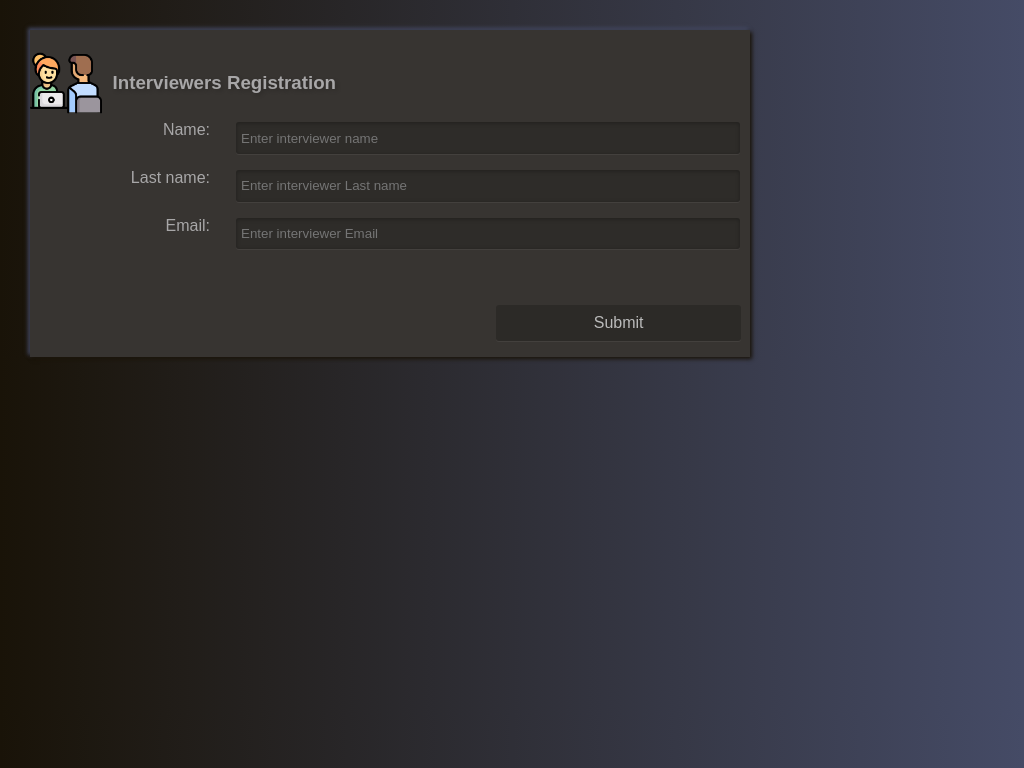
Test: MyForm Component › should display error message on failed form submission because invalid name
Type "J" into the field labelled "Name:" at (488, 138), box [236,122,740,154]
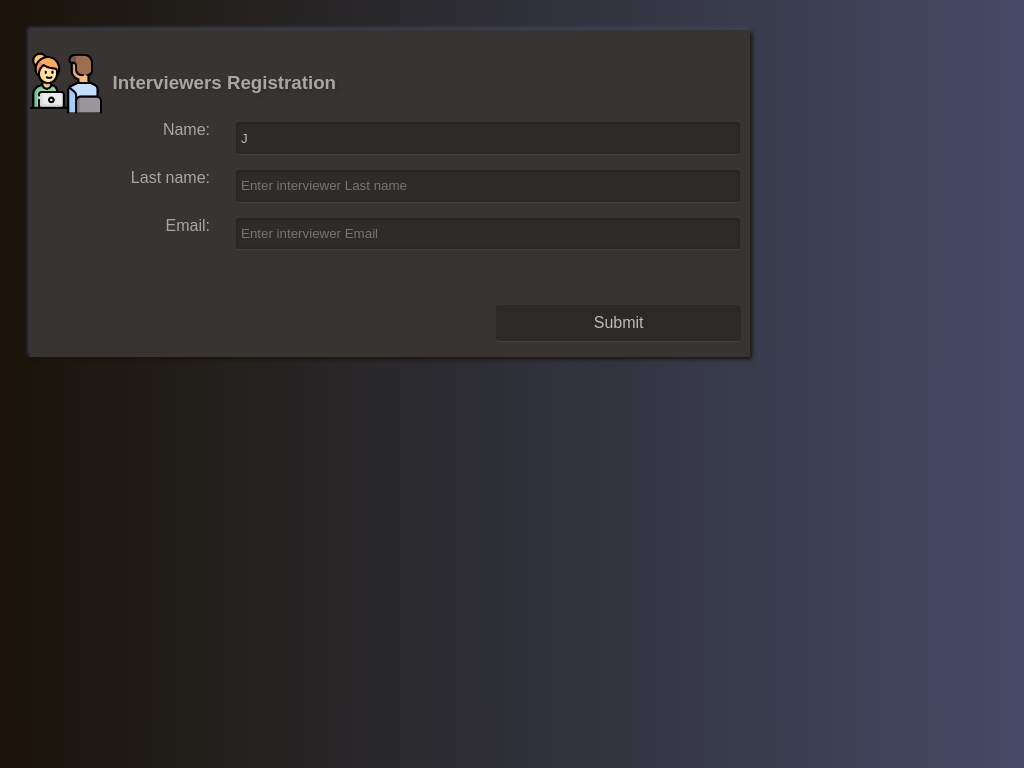
Type "Doe" into the field labelled "Last name:" at (488, 186), box [236,170,740,202]
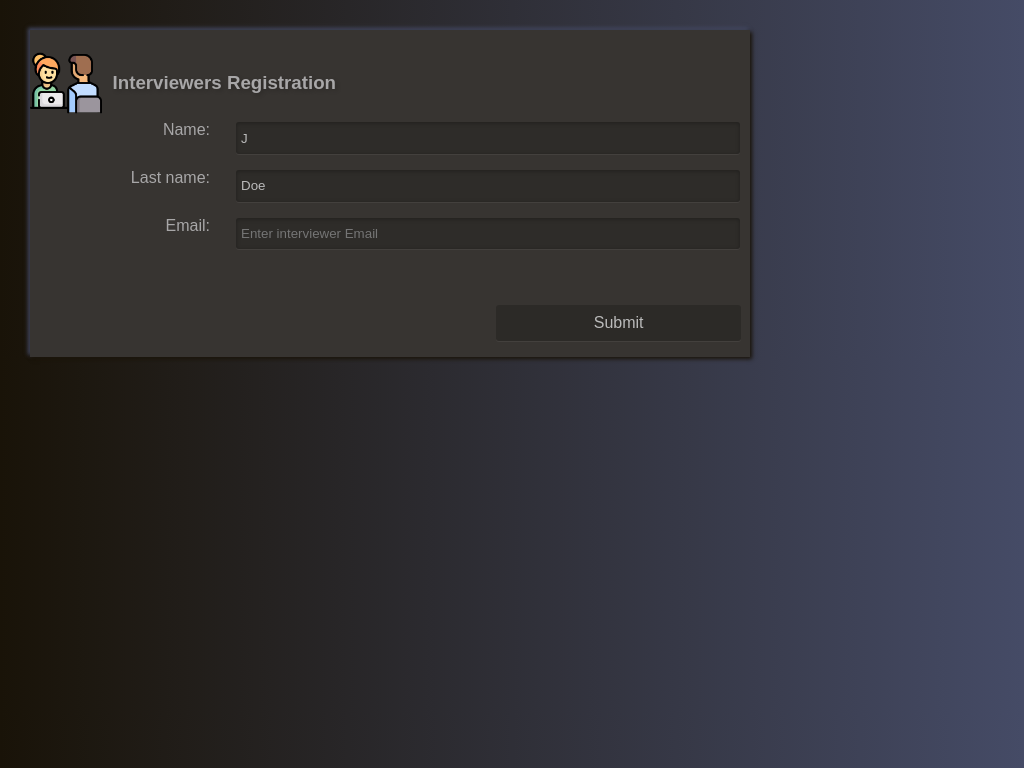
Type "john.doe@example.com" into the field labelled "Email:" at (488, 233), box [236,218,740,249]
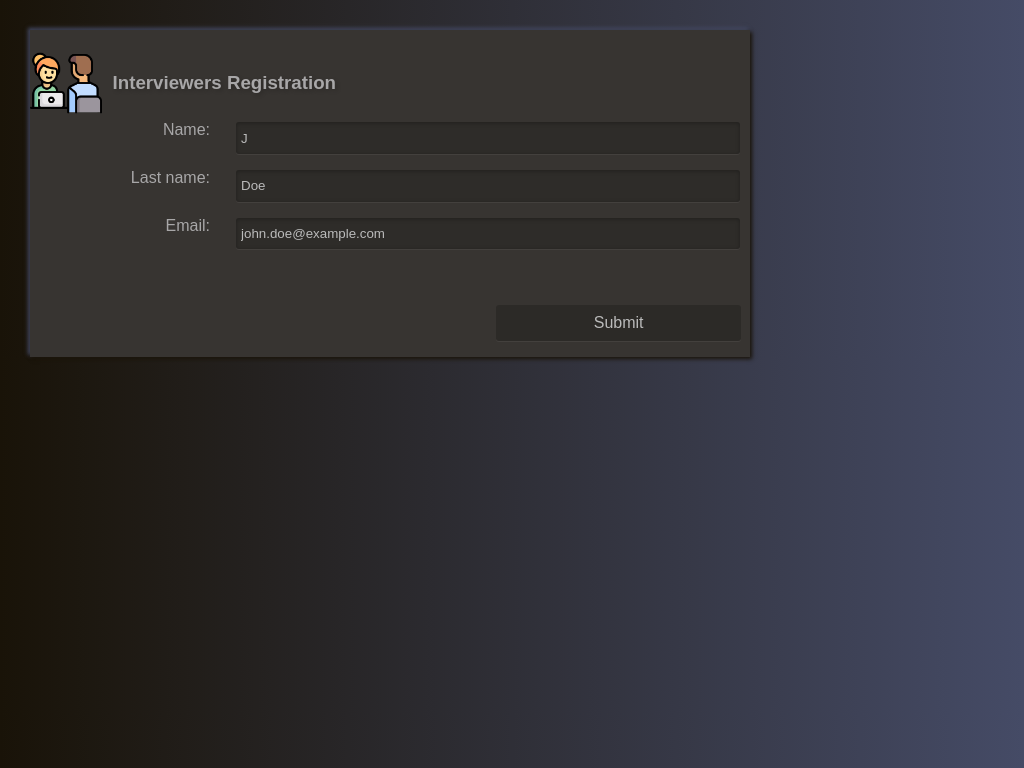
Click the button "Submit" at (619, 323), box [496,305,741,341]
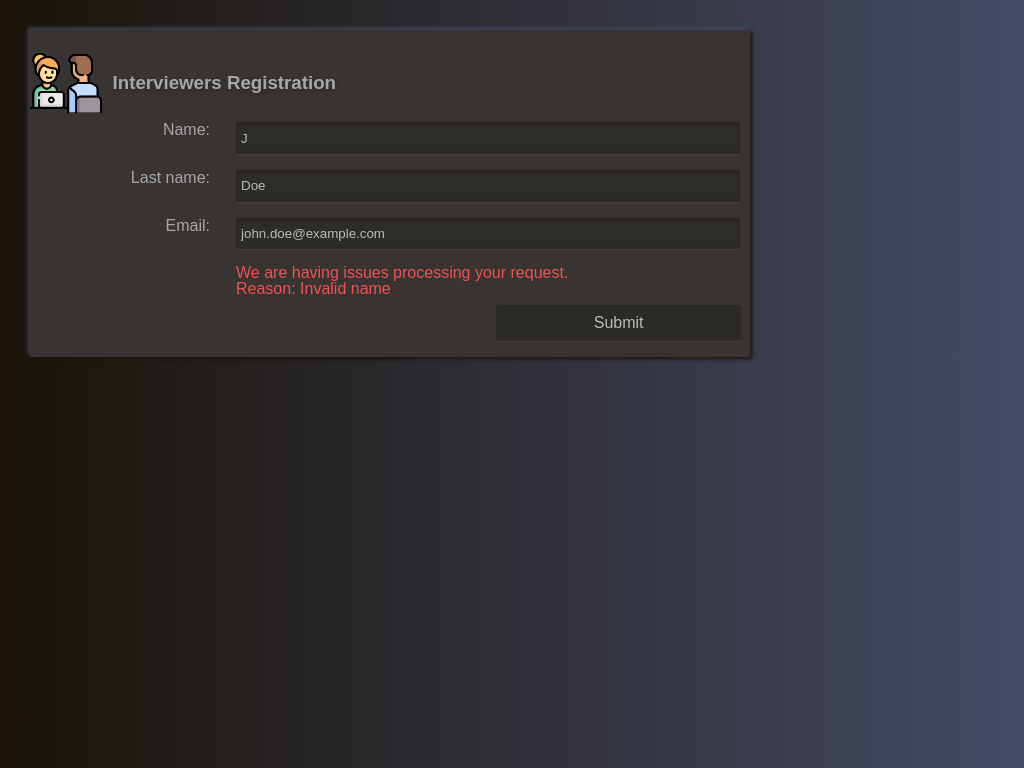
Expected: the text "Invalid name" is shown, [300,280,391,297]
